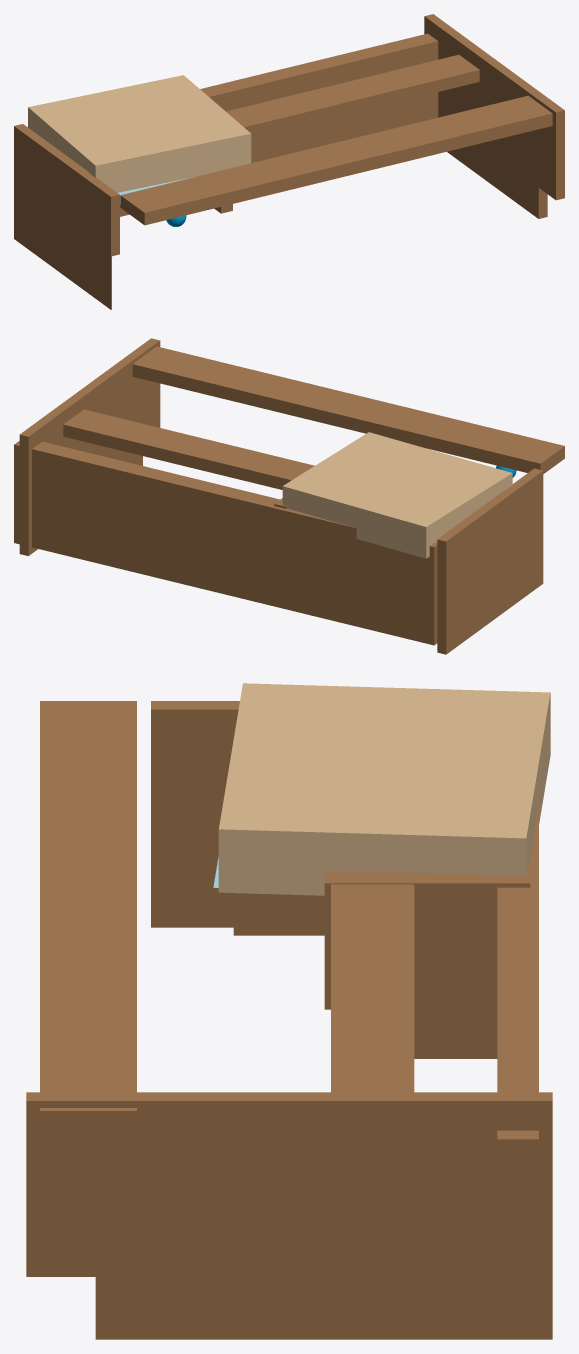
Rendered from tinker.obj.
The picture shows the model from 3 angles, top to bottom: view 1: azimuth 30°, elevation 25°; view 2: azimuth 150°, elevation 25°; view 3: azimuth 270°, elevation 25°; orthographic projection. The views are drawn at different scales.
Visible parts, largest first — view 1: group_0_11107152, group_0_14860437; view 2: group_0_11107152, group_0_14860437; view 3: group_0_11107152, group_0_14860437.
Boxes of the visible parts, box(x1,y1,x2,y2) form: group_0_11107152: box(14, 14, 564, 309); group_0_14860437: box(28, 75, 251, 192); group_0_11107152: box(14, 338, 564, 654); group_0_14860437: box(282, 432, 512, 558); group_0_11107152: box(26, 701, 552, 1339); group_0_14860437: box(218, 683, 550, 895).
Size of the model in its own units: 72 by 20 by 38.
